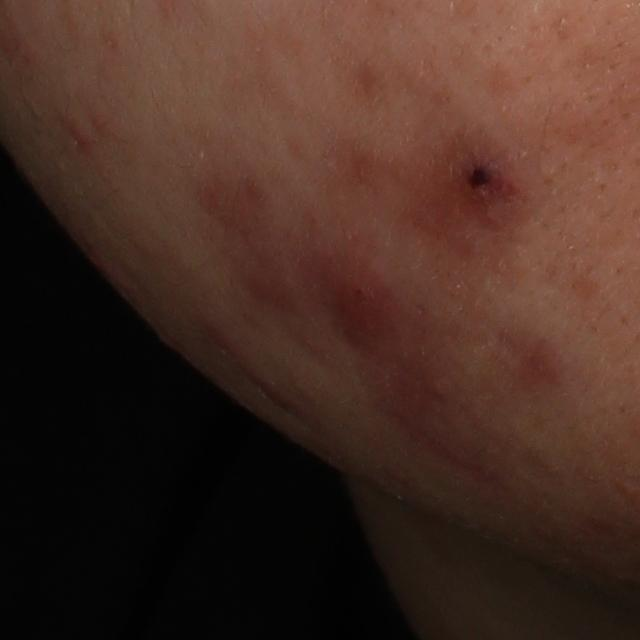nodule: (306, 242, 413, 355)
papule: (452, 151, 512, 211), (71, 123, 93, 148)
